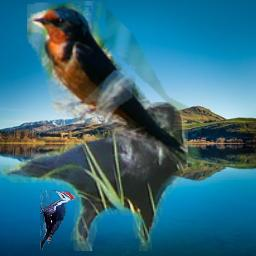Crow: (0, 102, 188, 251)
Swallow: (27, 1, 201, 170)
Woodpecker: (40, 190, 77, 252)
